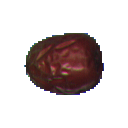gd: (16, 23, 116, 110)
